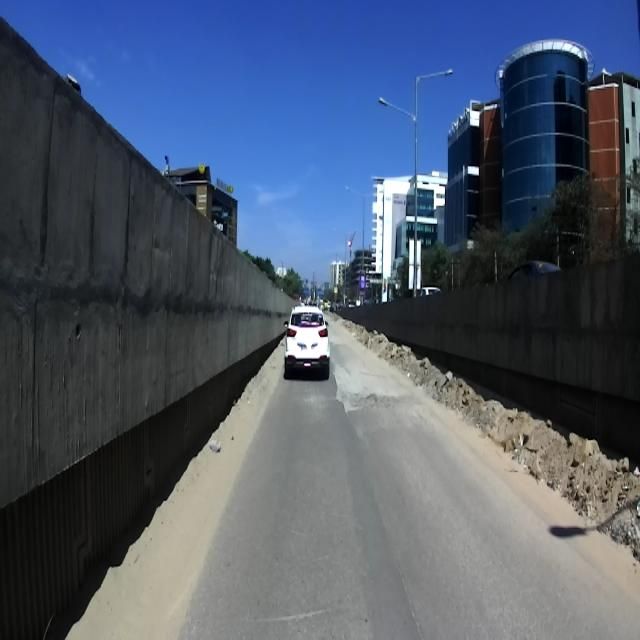car ahead at: (284, 303, 332, 391)
